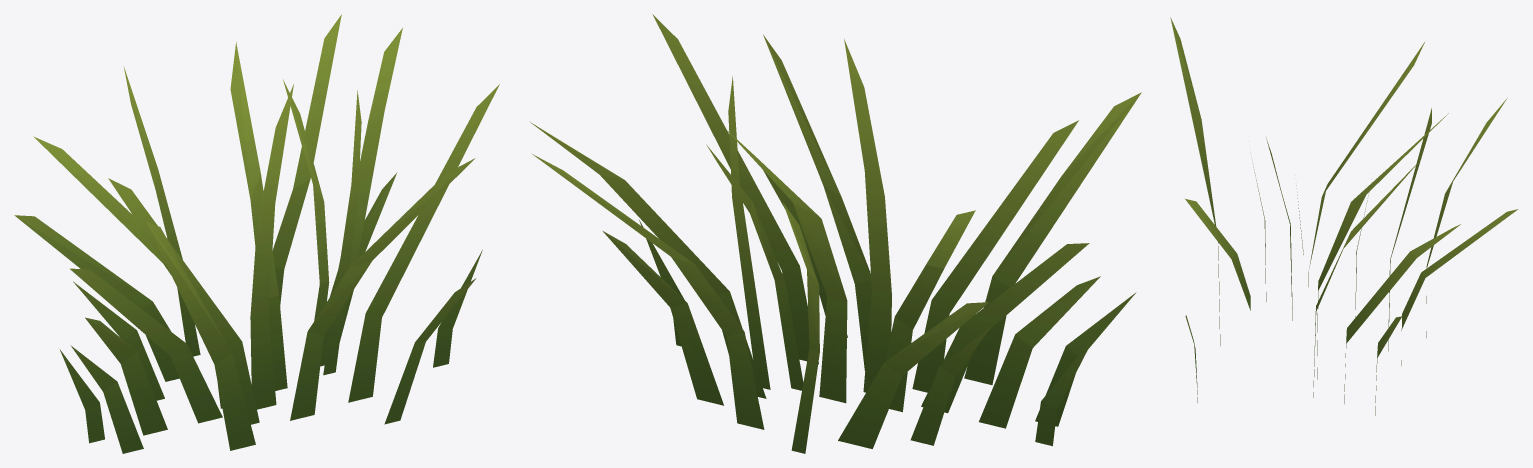
The model's file is Grass_Large.glb.
3 views of the same model, side by side, from view 1: azimuth 30°, elevation 25°; view 2: azimuth 150°, elevation 25°; view 3: azimuth 270°, elevation 25° (orthographic). The views are drawn at different scales.
Size of the model in its own units: 0.7085 by 0.4851 by 0.498.
Materials: 1 (1 with a texture image).
